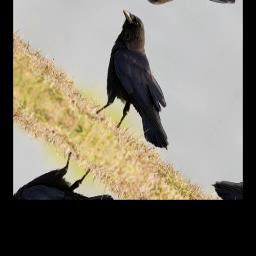Crow: (67, 5, 215, 163)
